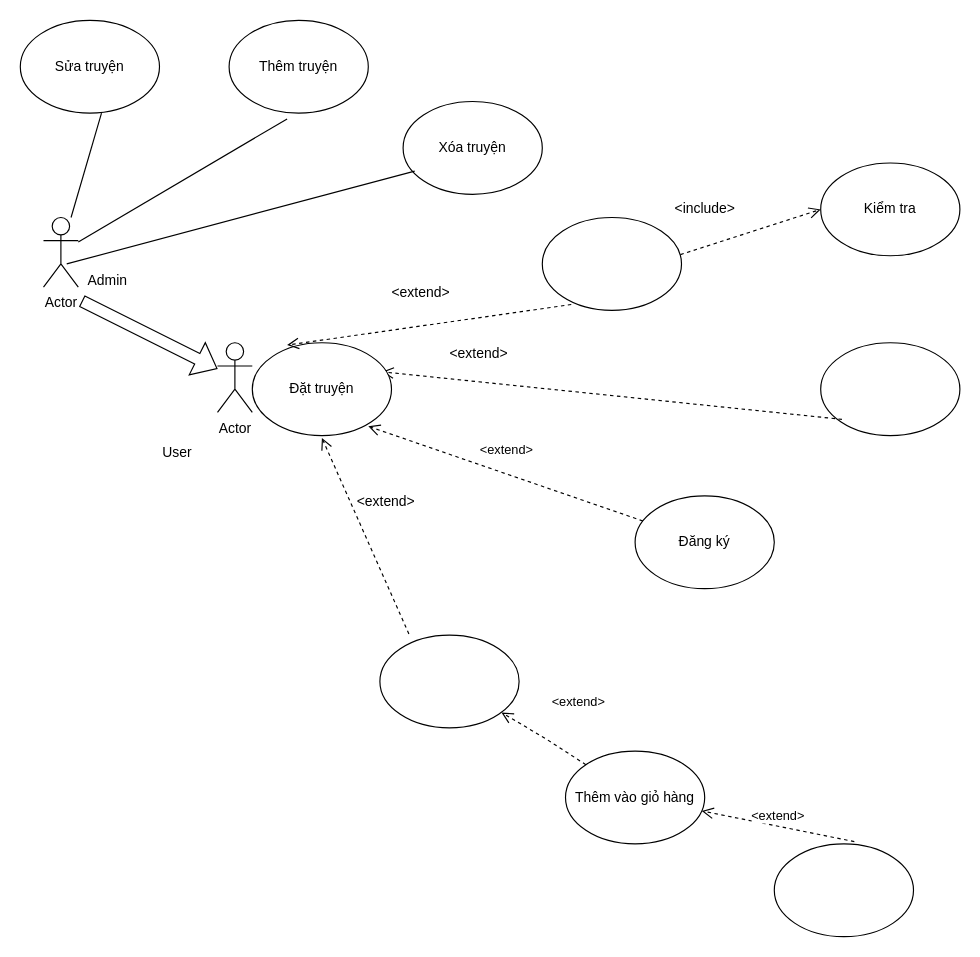
This 980x957 diagram has some shape labels left out. Each missing label, with the centre of its shape:
"Thanh toán" goes at (843,890).
"Tìm kiếm" goes at (611,263).
"Xem thông tin truyện" goes at (449,681).
"Đăng nhập" goes at (890,389).
